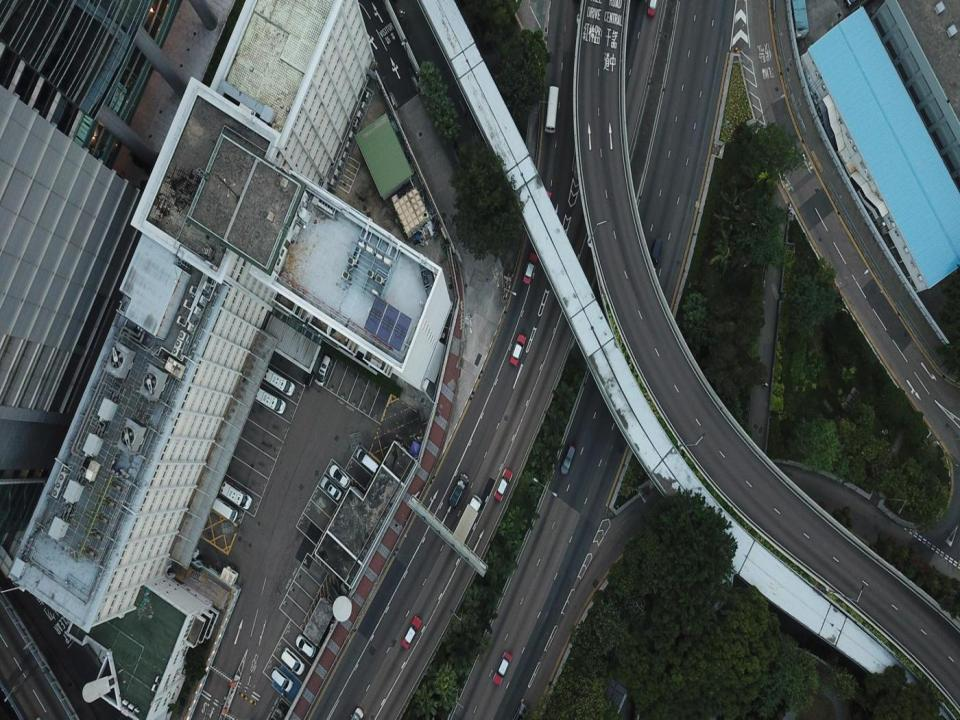bus: (546, 84, 559, 133)
car: (493, 651, 512, 687), (401, 616, 421, 650), (494, 468, 513, 502), (508, 332, 526, 367), (319, 475, 342, 501), (536, 188, 552, 223), (328, 464, 349, 490), (522, 252, 538, 284), (295, 634, 315, 657), (348, 705, 363, 719), (648, 0, 658, 20)
truck: (451, 494, 482, 546)
van: (256, 369, 296, 398), (219, 480, 252, 510), (253, 386, 285, 415), (280, 645, 304, 674), (449, 474, 469, 507), (355, 449, 380, 475), (213, 496, 238, 522), (269, 666, 293, 693), (316, 354, 333, 386), (560, 443, 576, 476), (649, 237, 662, 274)
